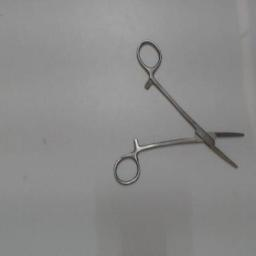Mayo Needle Holder: (110, 37, 250, 189)
